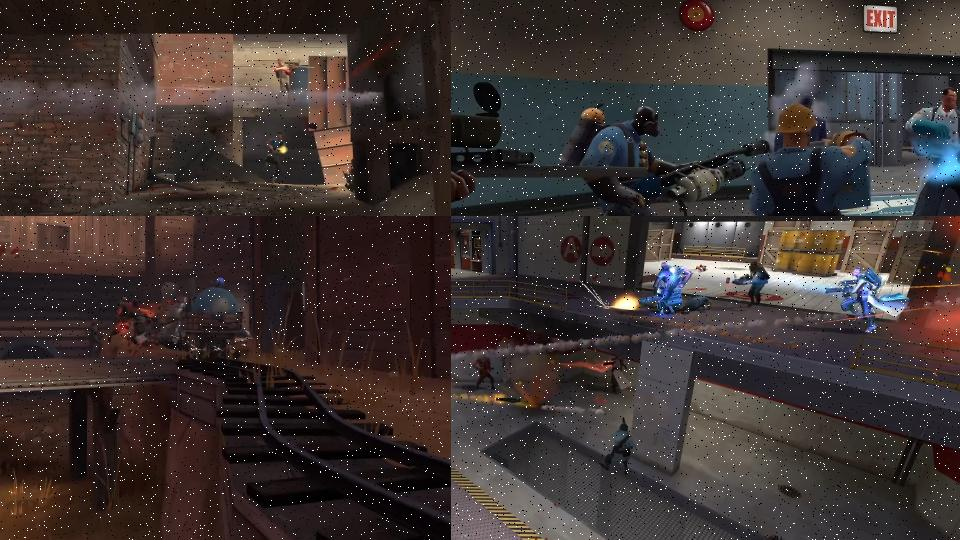Enemy: (557, 107, 772, 216), (747, 97, 881, 216), (907, 86, 960, 216), (824, 266, 910, 336), (637, 257, 690, 320), (108, 295, 158, 344), (598, 419, 638, 479), (273, 59, 315, 106), (731, 260, 772, 308), (600, 351, 632, 397), (264, 130, 288, 187), (679, 3, 724, 33), (470, 351, 499, 394), (674, 292, 712, 316)
